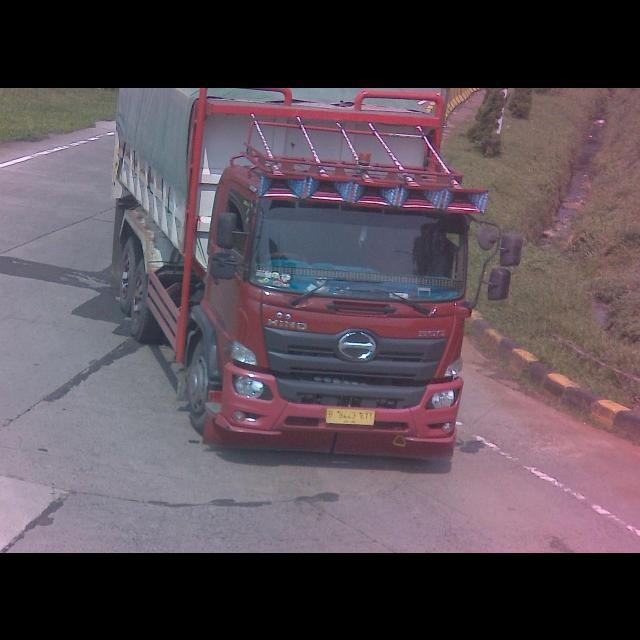plate: (324, 404, 380, 428)
